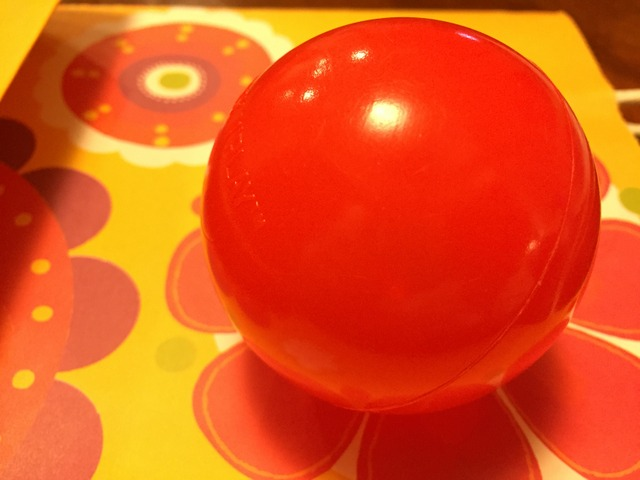Ball: (208, 14, 599, 401)
